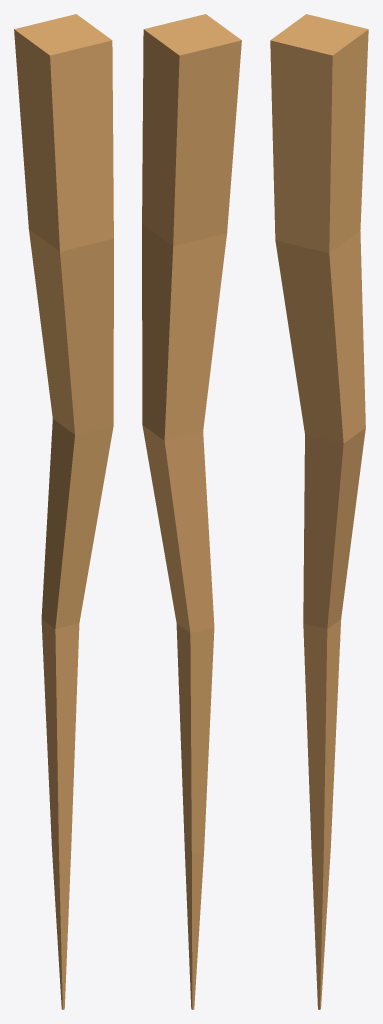
File: branch_5seg.fbx
The picture shows the model from 3 angles, left to right: view 1: azimuth 30°, elevation 25°; view 2: azimuth 210°, elevation 25°; view 3: azimuth 330°, elevation 25°; orthographic projection.
Visible parts, largest first — view 1: branch_5seg; view 2: branch_5seg; view 3: branch_5seg.
Boxes of the visible parts, x1,y1,x2,y2 form: branch_5seg: (14,14,113,1009); branch_5seg: (142,14,241,1009); branch_5seg: (270,14,368,1009).
Size of the model in its own units: 122 by 1655 by 118.
